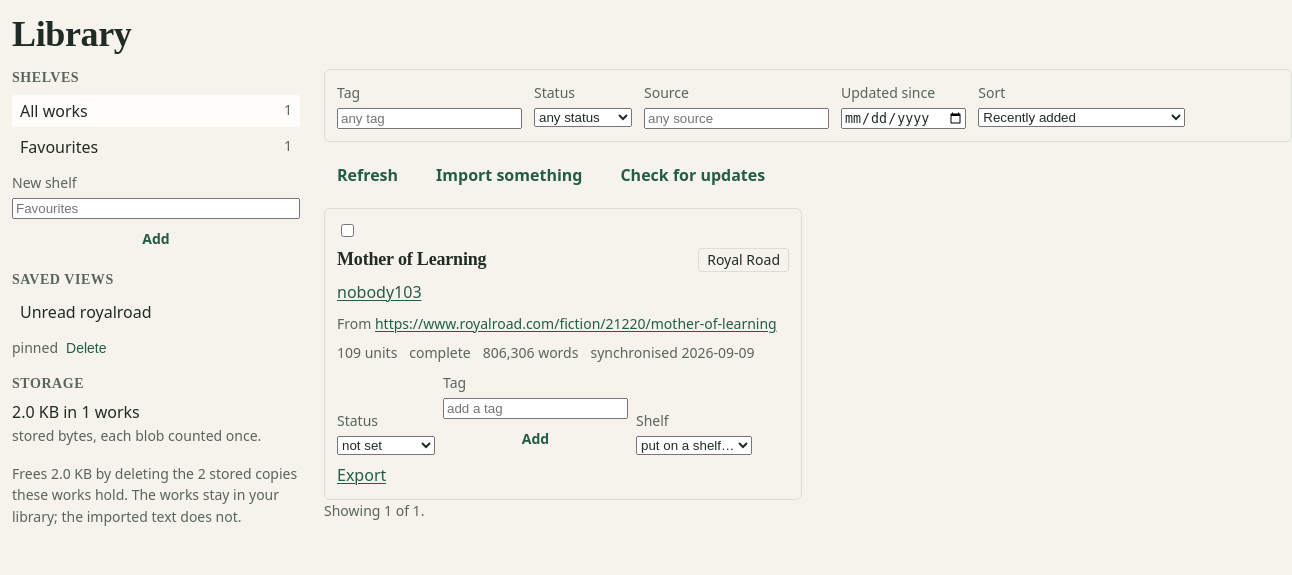
it: the library page › loads a saved view’s query into the filter bar, and says what it could not
Click the button "Unread royalroad": coordinates (86, 312) [12,296,300,329]
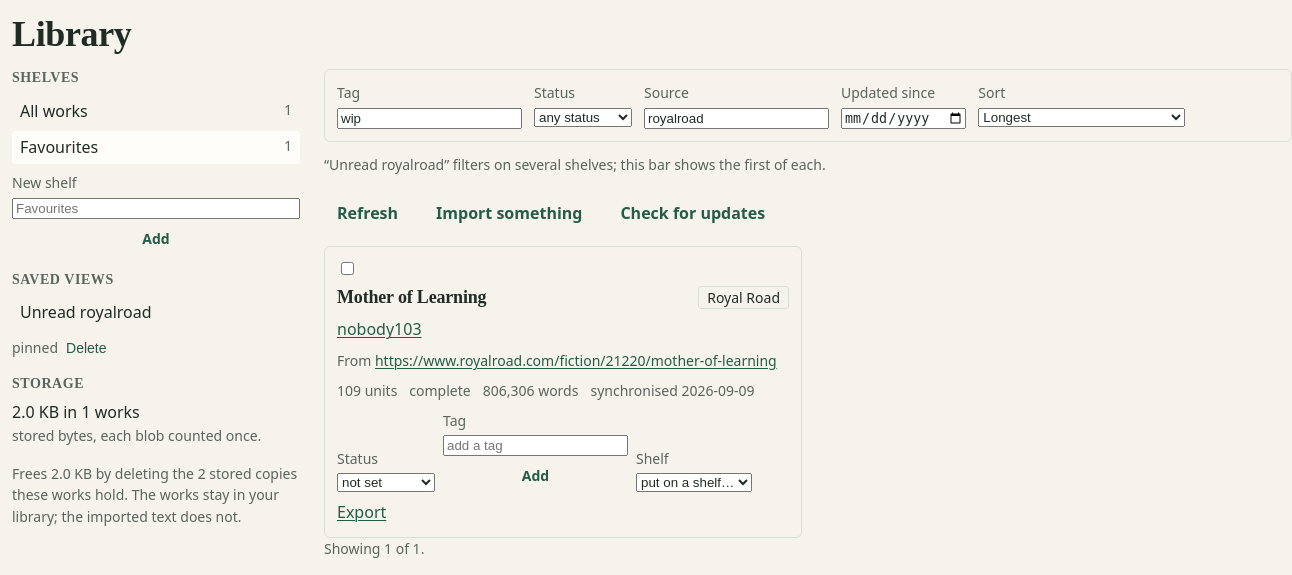
Expected: the text "shows the first of each" is shown, [324,155,826,174]
